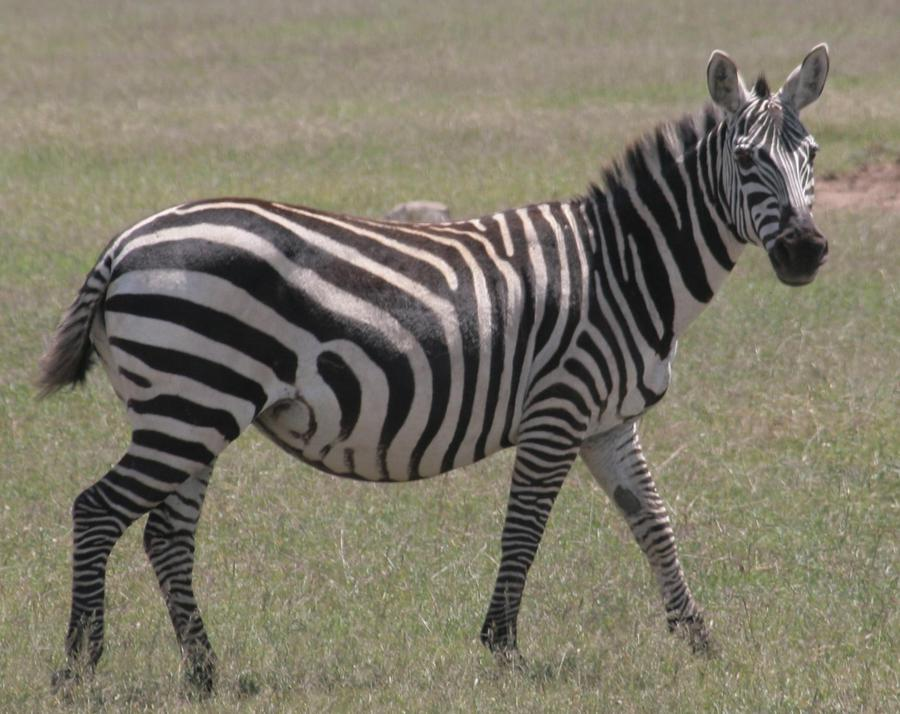zebra_plains: (106, 168, 657, 484)
